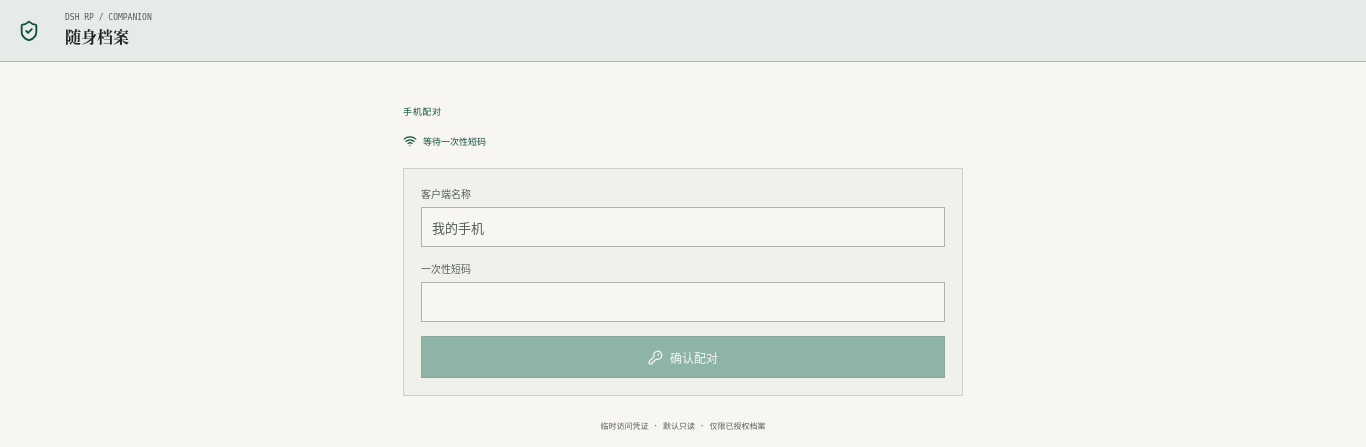
Scenario: companion session isolation › aborts all reads and closes the stream when the page unmounts
Later steps or results of the test are not shown.
Type "one-time-code-123456789" into the field named "一次性配对短码" at (683,302), box [421, 282, 945, 322]
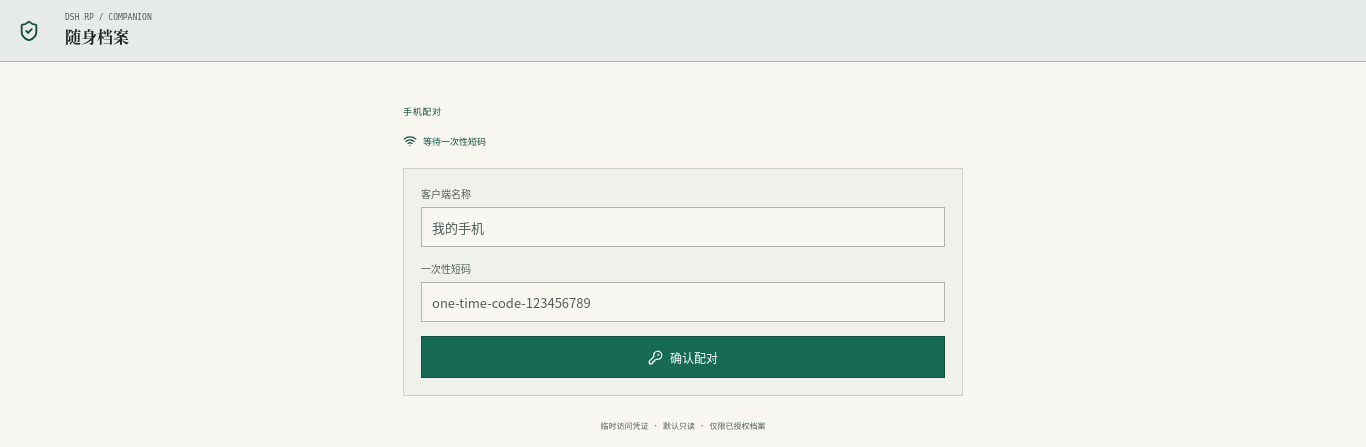
Click the button "确认配对" at (683,357), box [421, 336, 945, 378]
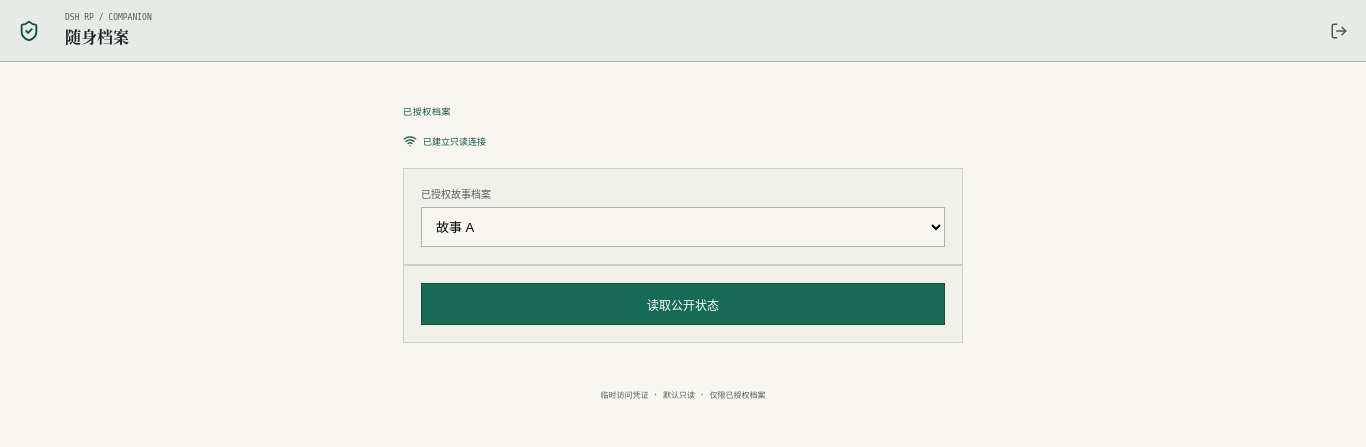
Now the dropdown labelled "已授权故事档案" is shown, box [421, 207, 945, 247]
